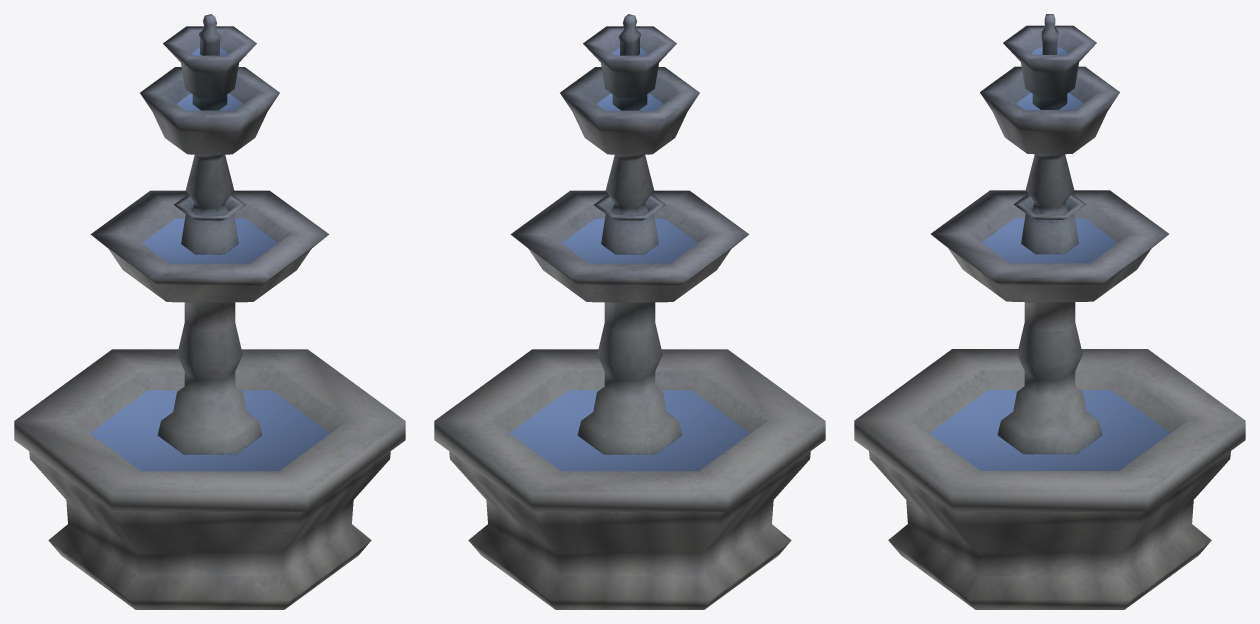
Rendered from fountain_ps1.glb.
3 renders of one model, left to right at view 1: azimuth 30°, elevation 25°; view 2: azimuth 150°, elevation 25°; view 3: azimuth 270°, elevation 25°, orthographic.
Parts seen in each view (by area): view 1: TopFountain.001; view 2: TopFountain.001; view 3: TopFountain.001.
Part boxes in pixels (x1,y1,x2,y2): TopFountain.001: [14, 14, 405, 609]; TopFountain.001: [434, 14, 825, 609]; TopFountain.001: [854, 14, 1245, 609].
Size of the model in its own units: 2.28 by 4 by 2.63.
Materials: 1 (1 with a texture image).
